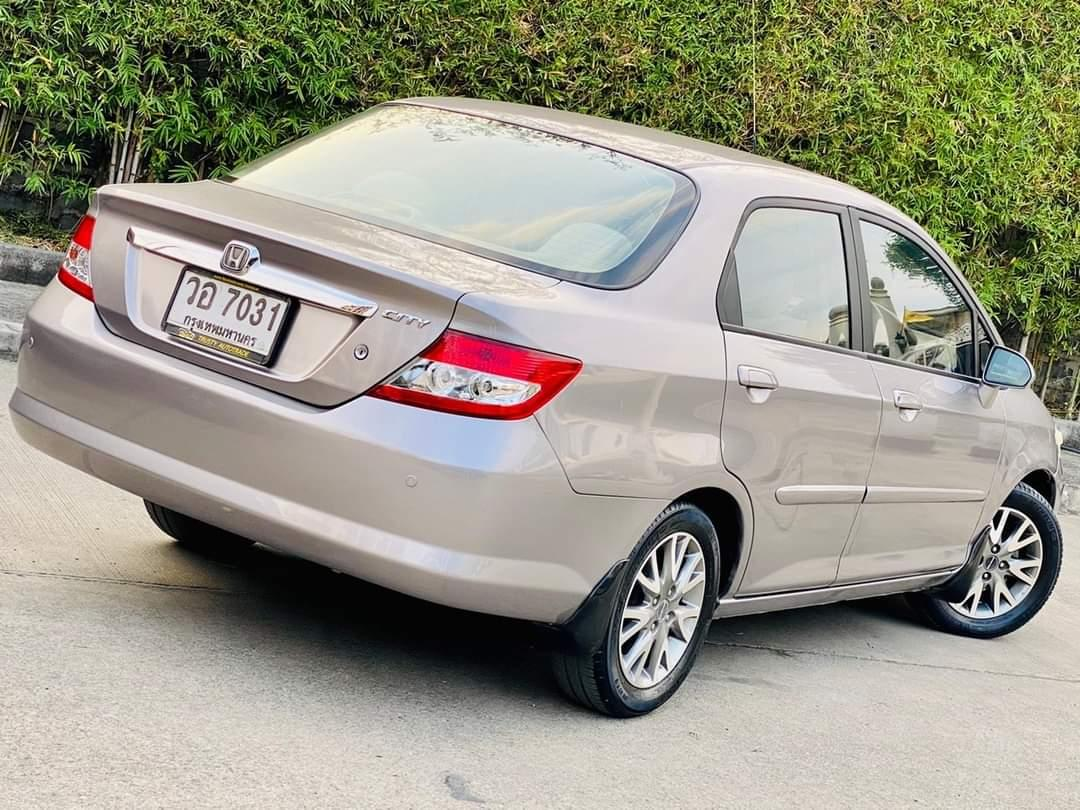license-plate: (157, 256, 302, 372)
